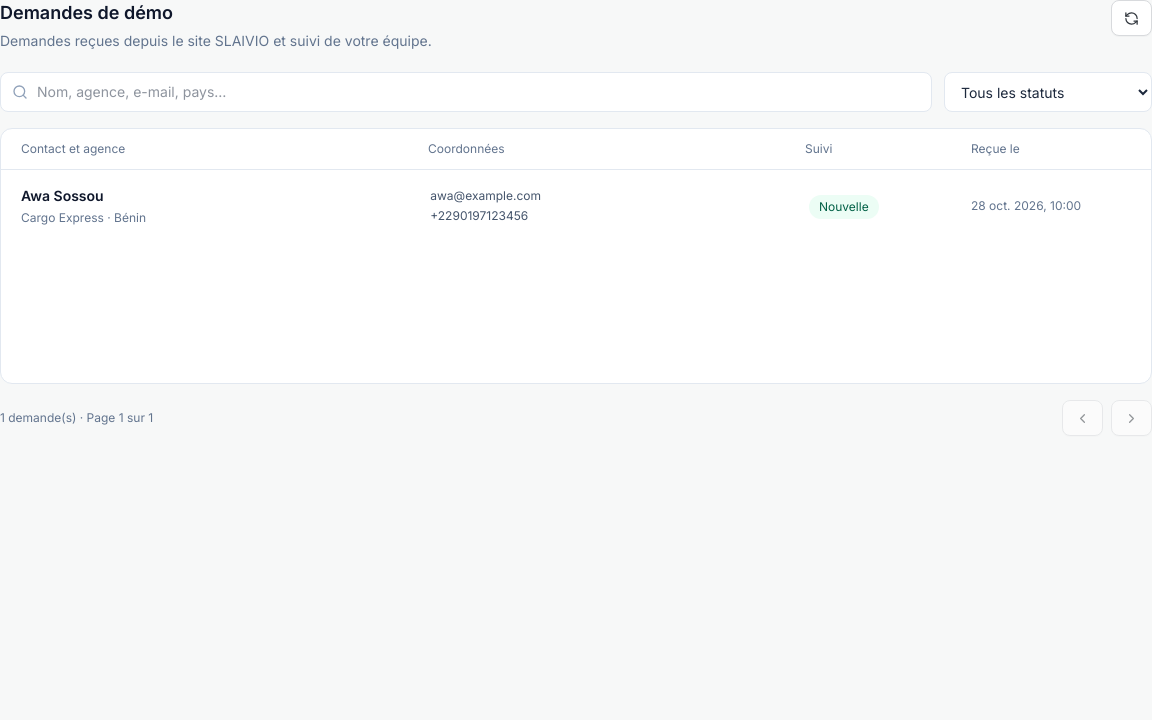
Test: preserves the note and allows reloading after a conflict instead of reporting success
The image size is (1152, 720).
Click the button with aria-label "Ouvrir la demande de Awa Sossou" at coordinates (62, 196), box x1=1 y1=170 x2=1151 y2=242
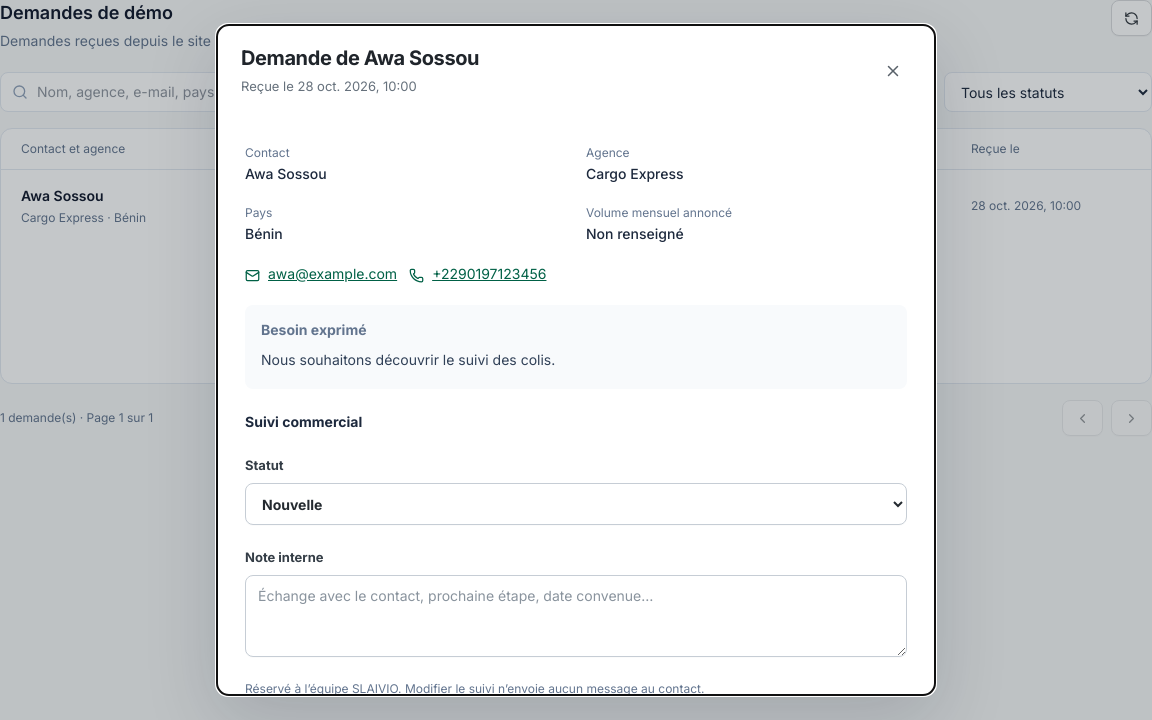
Type "Mon échange à conserver" into the text box labelled "Note interne" at coordinates (576, 616), box x1=245 y1=575 x2=907 y2=657
(page scrolled)
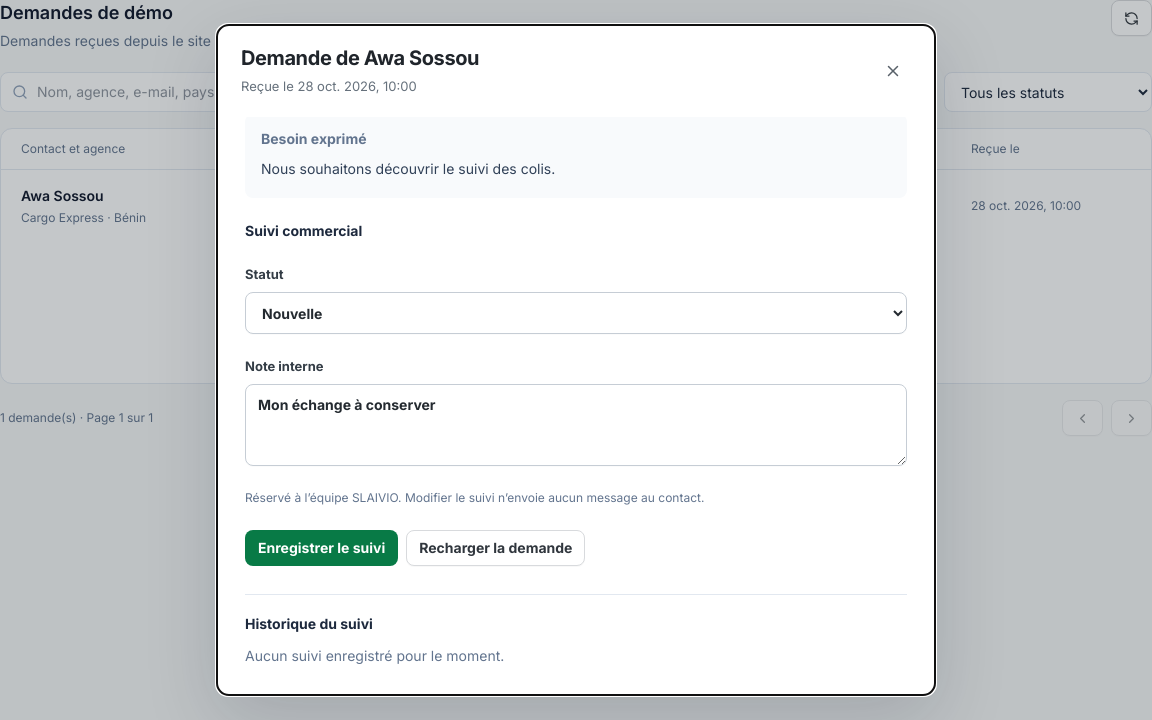
Click the button "Enregistrer le suivi" at coordinates (322, 548), box x1=245 y1=530 x2=398 y2=566
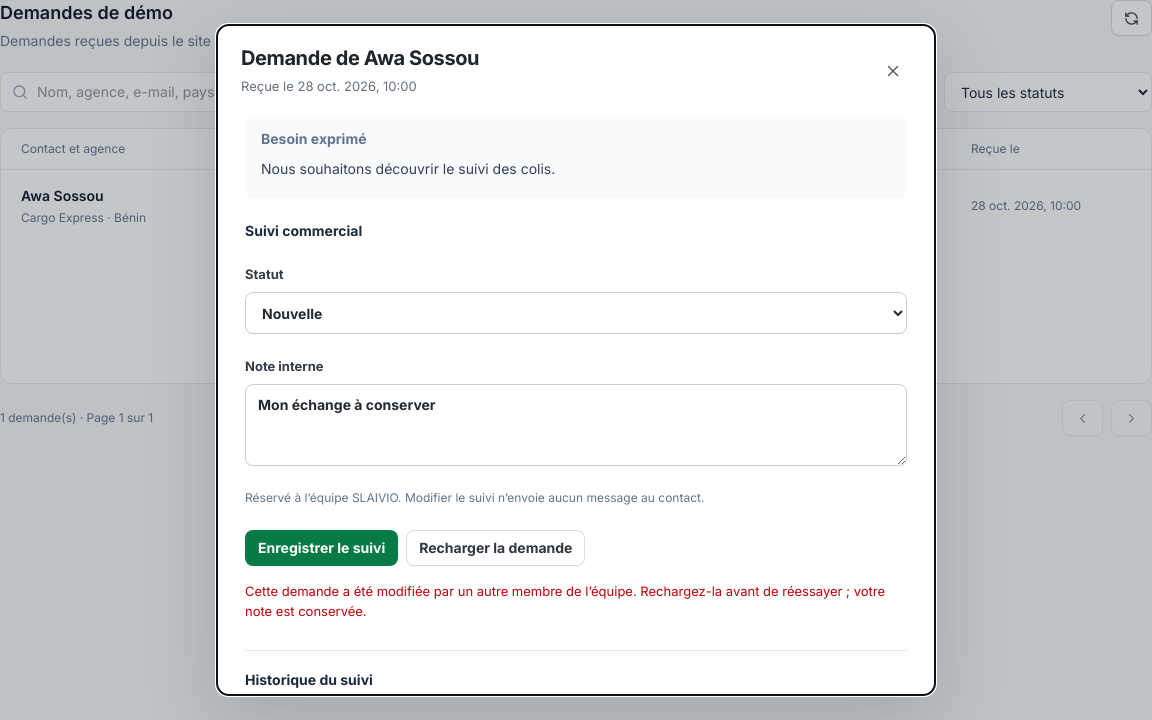
Expected: the message shows "modifiée par un autre membre", x1=245 y1=584 x2=885 y2=620
Expected: the text "Suivi enregistré." is gone
Click the button "Recharger la demande" at coordinates (496, 548), box x1=406 y1=530 x2=585 y2=566
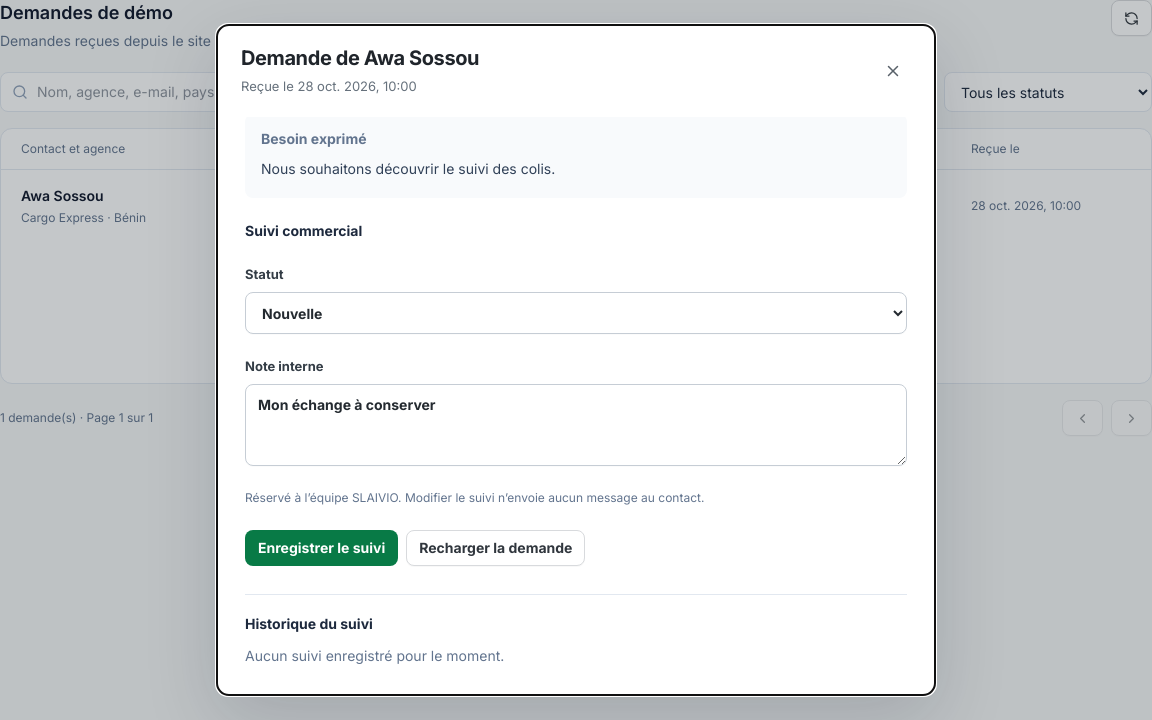
Expected: the message is gone
